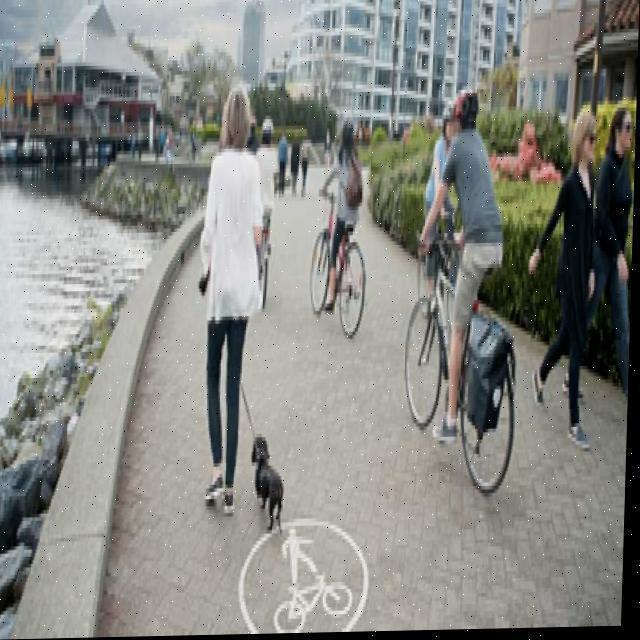Helmet: (454, 78, 483, 142), (342, 112, 359, 152)
